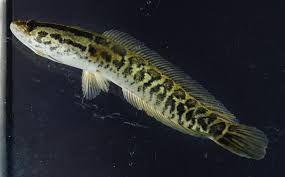Snakehead: (9, 15, 271, 162)
